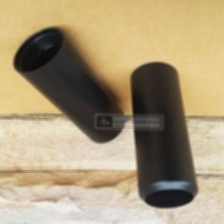bottle: (8, 22, 128, 146), (131, 59, 198, 210)
